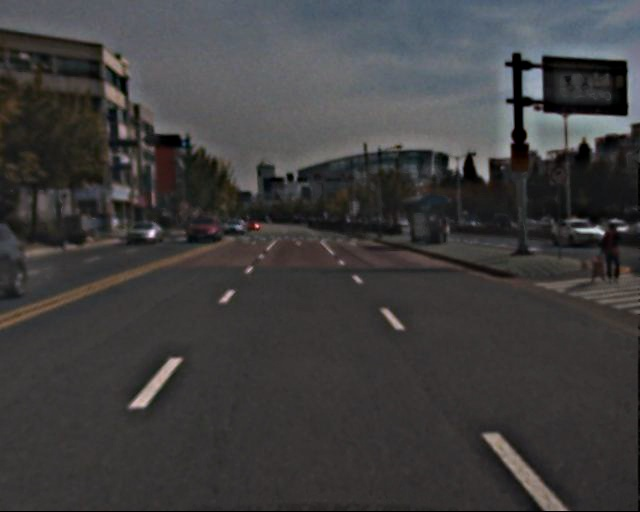person: (596, 218, 623, 285)
